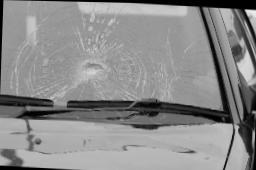Windshield: (0, 0, 226, 119)
